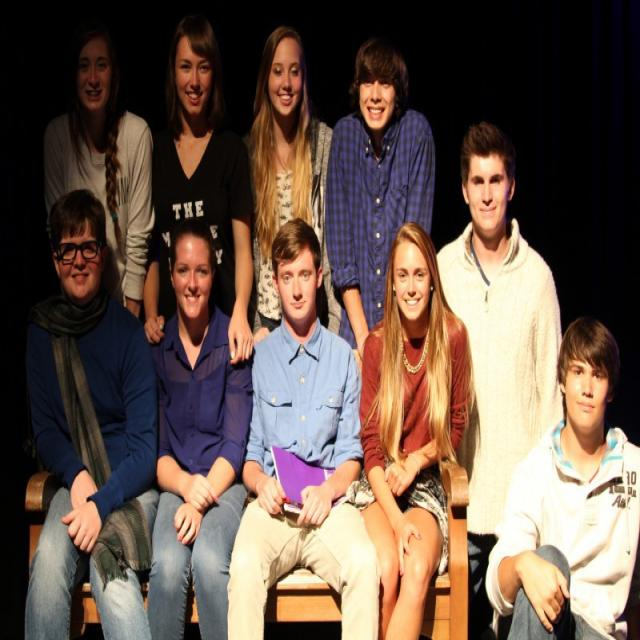body: (224, 214, 386, 638), (435, 117, 564, 640), (23, 185, 160, 640), (138, 211, 258, 639), (483, 311, 639, 639), (354, 219, 472, 639), (138, 9, 256, 370), (322, 33, 438, 371), (41, 18, 158, 326), (245, 24, 343, 356)
